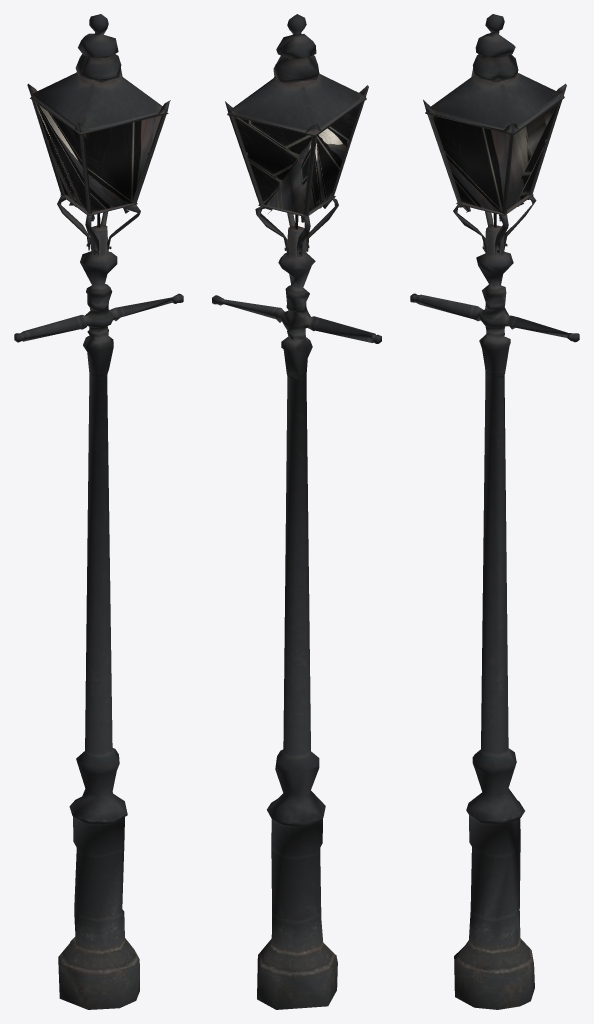
Rendered from street_lamp_01.gltf.
The picture shows the model from 3 angles, left to right: view 1: azimuth 30°, elevation 25°; view 2: azimuth 150°, elevation 25°; view 3: azimuth 330°, elevation 25°; orthographic projection.
Visible parts, largest first — view 1: street_lamp_01; view 2: street_lamp_01; view 3: street_lamp_01.
Part boxes in pixels (bbox=[...]): street_lamp_01: bbox=[14, 14, 183, 1009]; street_lamp_01: bbox=[212, 14, 381, 1009]; street_lamp_01: bbox=[410, 14, 579, 1009].
Size of the model in its own units: 0.6892 by 3.87 by 0.3862.
Materials: 2 (2 with a texture image).
